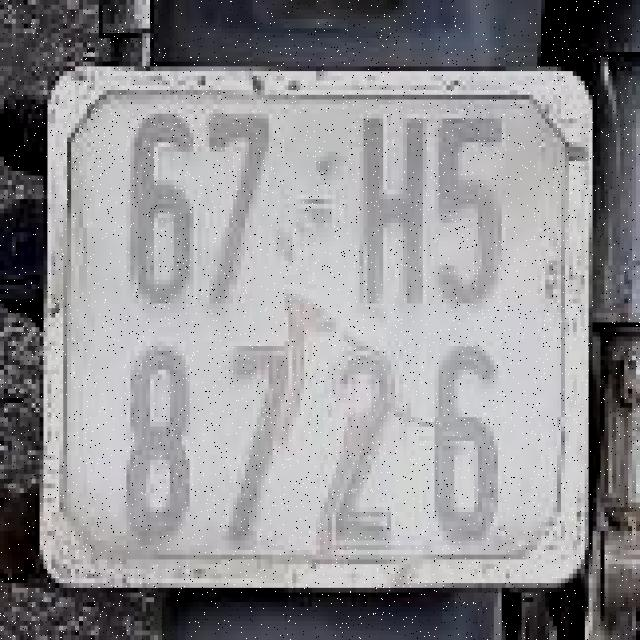2: (320, 334, 415, 552)
5: (438, 102, 526, 315)
6: (432, 332, 528, 550), (116, 109, 204, 313)
7: (220, 332, 298, 545), (202, 102, 272, 310)
8: (119, 339, 198, 543)
H: (356, 109, 438, 303)
